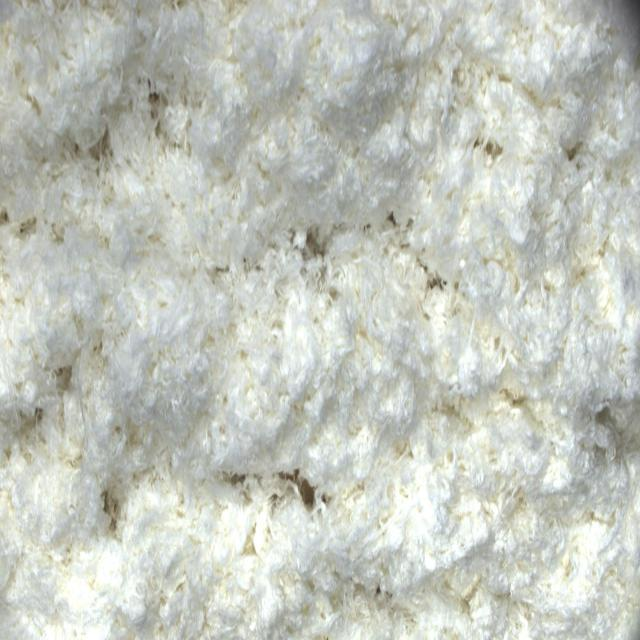dust: (277, 470, 323, 514)
